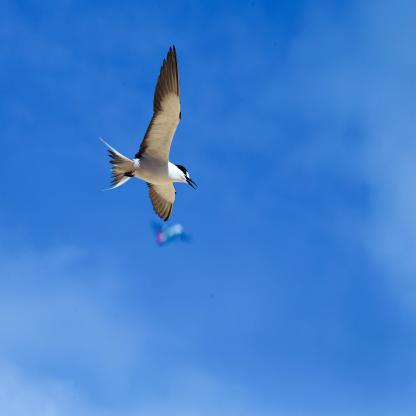bird: (99, 44, 199, 222)
